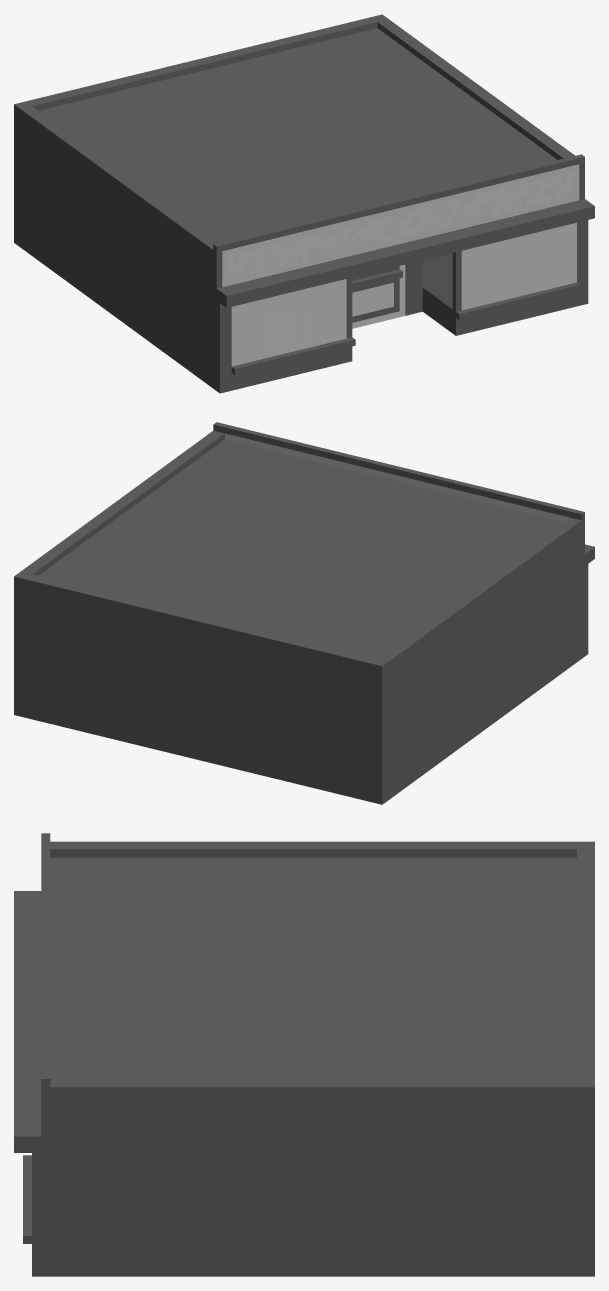
Rendered from bld_store01.obj.
3 renders of one model, top to bottom at view 1: azimuth 30°, elevation 25°; view 2: azimuth 150°, elevation 25°; view 3: azimuth 270°, elevation 25°, orthographic. The views are drawn at different scales.
Bounding box in the file's own units: 64 × 24 × 64.
